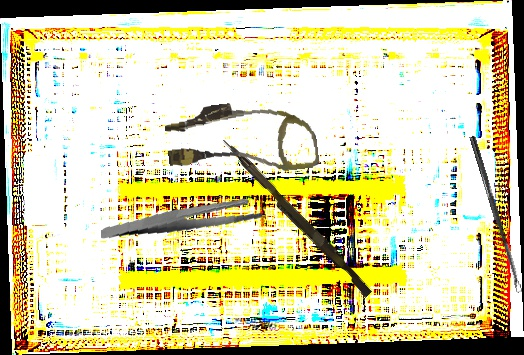Cannula: (163, 93, 320, 185)
Dressing Forceps: (100, 183, 264, 256)
Pusher: (215, 137, 377, 298)
Surgical Spoon: (468, 135, 523, 294)
